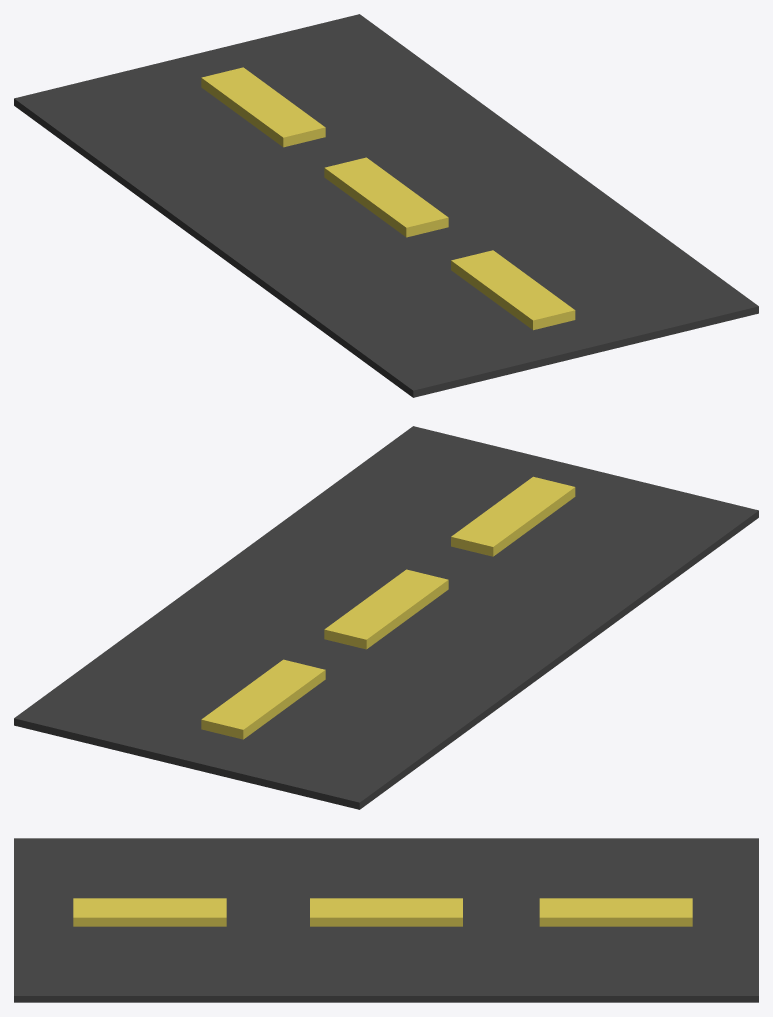
The model's file is road.fbx.
3 views of the same model, one above another, from view 1: azimuth 30°, elevation 25°; view 2: azimuth 150°, elevation 25°; view 3: azimuth 270°, elevation 25° (orthographic). The views are drawn at different scales.
Visible parts, largest first — view 1: Road8; view 2: Road8; view 3: Road8.
Part boxes in pixels (x1,y1,x2,y2): Road8: (14,14,758,397); Road8: (14,426,758,809); Road8: (14,838,758,1002).
Bounding box in the file's own units: 1000 × 46.99 × 2000.
